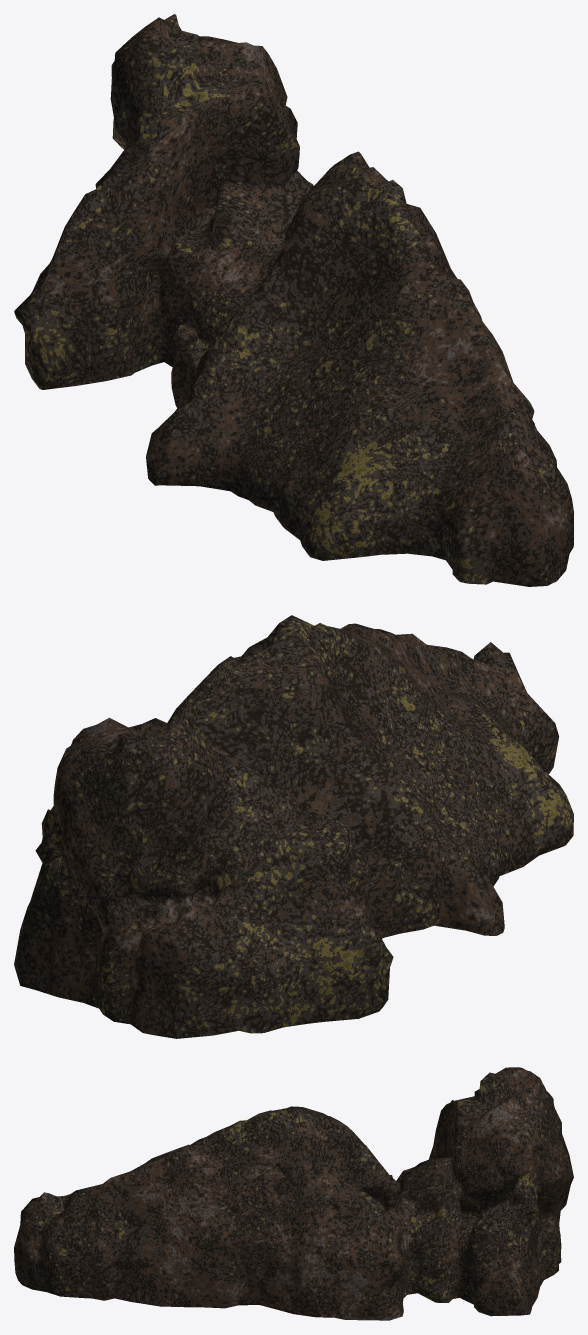
Rendered from SM_rock_03_brown.fbx.
3 renders of one model, top to bottom at view 1: azimuth 30°, elevation 25°; view 2: azimuth 150°, elevation 25°; view 3: azimuth 270°, elevation 25°, orthographic. The views are drawn at different scales.
Visible parts, largest first — view 1: SM_rock_03_brown_LOD0; view 2: SM_rock_03_brown_LOD0; view 3: SM_rock_03_brown_LOD0.
Boxes of the visible parts, x1,y1,x2,y2 form: SM_rock_03_brown_LOD0: (14,14,573,586); SM_rock_03_brown_LOD0: (14,615,573,1038); SM_rock_03_brown_LOD0: (14,1067,573,1320).
Bounding box in the file's own units: 213 × 432 × 174.
1 material, 1 textured.
